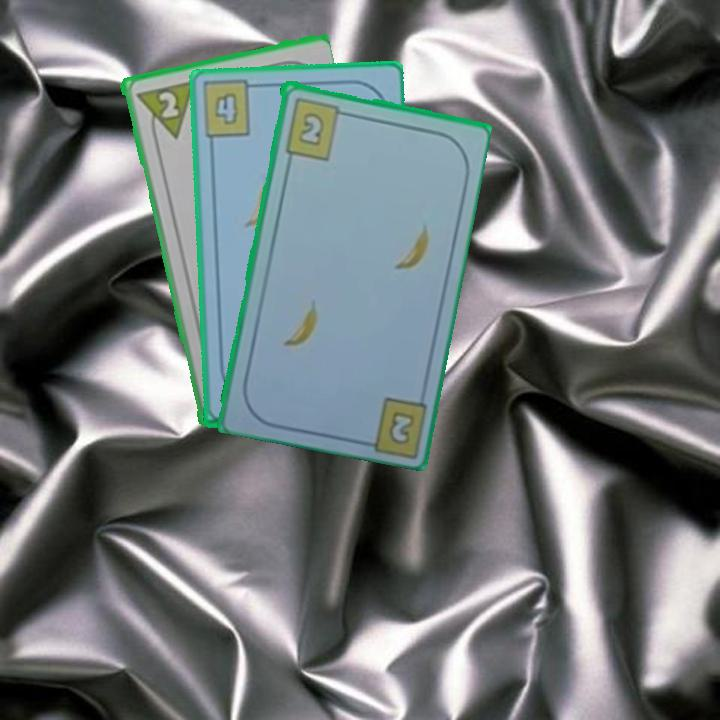2b: (281, 94, 351, 162), (387, 411, 414, 444)
2p: (131, 77, 196, 145)
4b: (198, 79, 262, 142)
